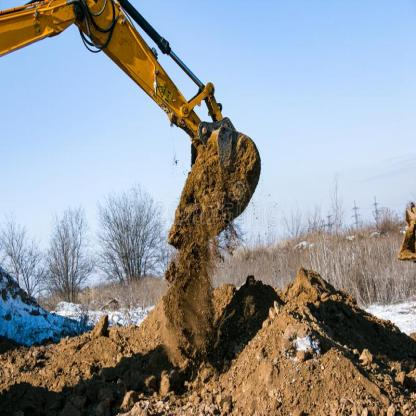excavator: (0, 0, 262, 258)
